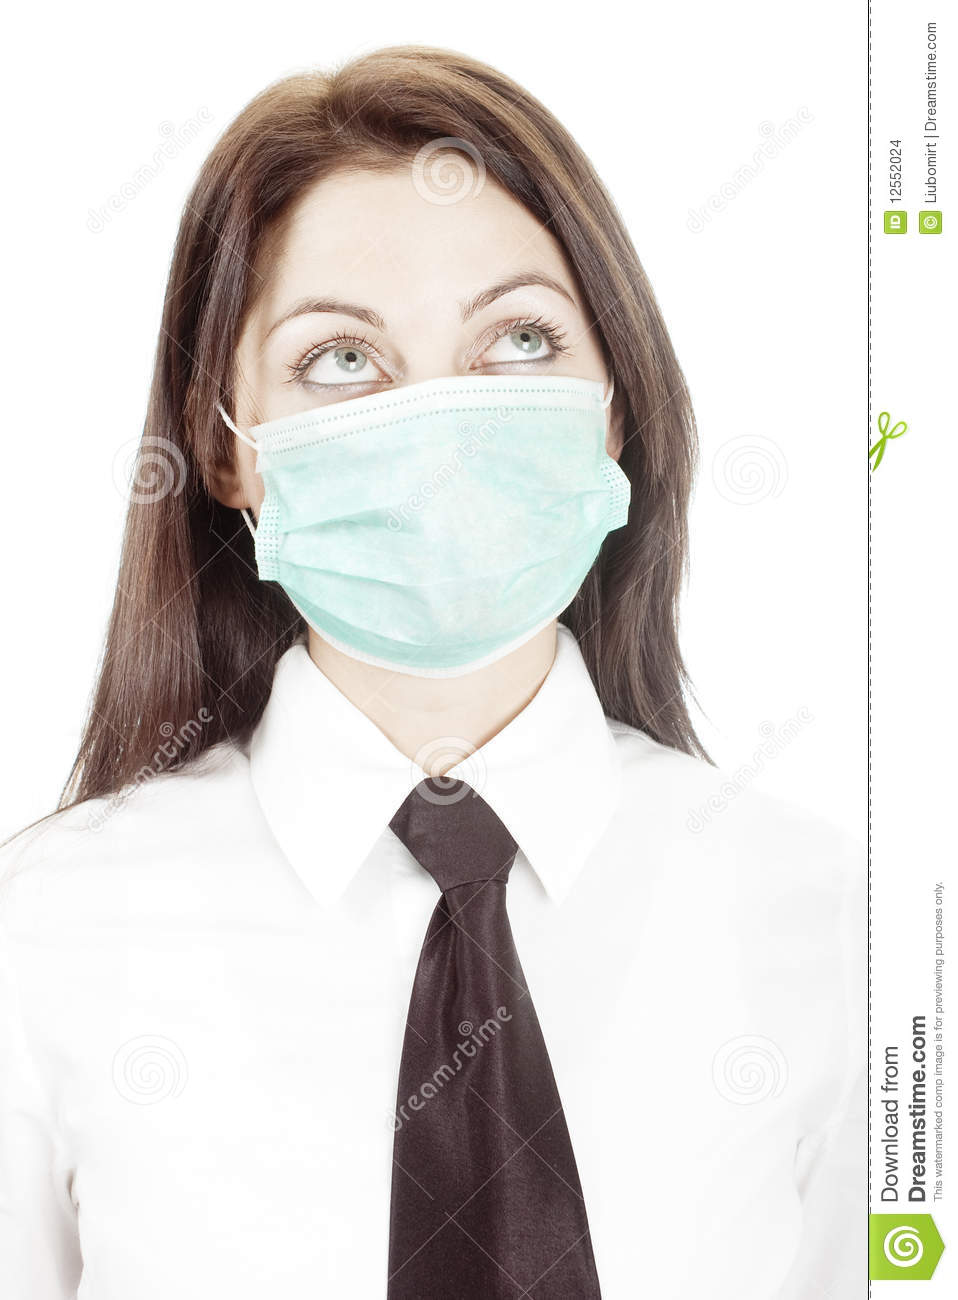mask: (250, 377, 633, 678)
